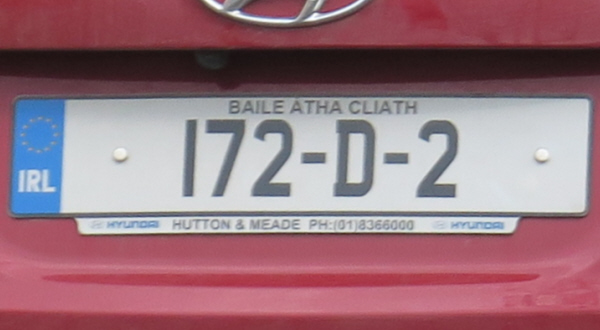license_plate: (8, 95, 590, 219)
